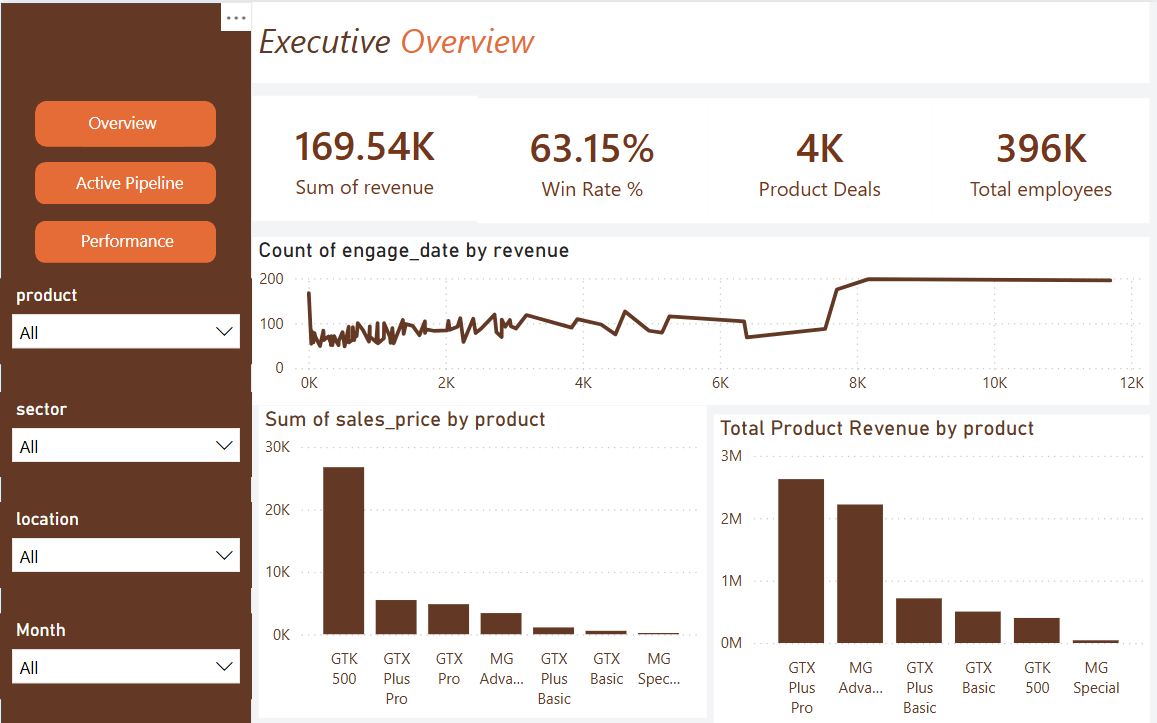

This screenshot's page, from the dashboard's own definition file:
{"tool":"powerbi","page":{"name":"Overview","canvas":[930,580],"ordinal":0},"visuals":[{"type":"shape","box":[0,0,202,580],"z":0},{"type":"slicer","fields":{"Values":["Product.product"]},"box":[0,221,202,69],"z":1000},{"type":"slicer","fields":{"Values":["account.sector"]},"box":[0,312,202,68],"z":2000},{"type":"slicer","fields":{"Values":["account.office_location"]},"box":[0,400,202,69],"z":3000},{"type":"slicer","fields":{"Values":["sales_pipeline.engage_date.Variation.Date Hierarchy.Month"]},"box":[0,489,202,69],"z":4000},{"type":"shape","box":[28,79,145,37],"z":5000},{"type":"textbox","box":[66,82,81,34],"z":6000},{"type":"shape","box":[28,128,145,34],"z":7000},{"type":"textbox","box":[56,130,100,29],"z":8000},{"type":"shape","box":[28,175,145,34],"z":9000},{"type":"textbox","box":[60,177,93,29],"z":10000},{"type":"actionButton","box":[53,83,100,29],"z":11000},{"type":"actionButton","box":[56,130,100,29],"z":12000},{"type":"actionButton","box":[57,180,100,29],"z":13000},{"type":"shape","box":[202,0,718,65],"z":14000},{"type":"textbox","box":[202,7,249,58],"z":15000},{"type":"cardVisual","fields":{"Data":["Product.Win Rate %"]},"box":[382,77,184,100],"z":16000},{"type":"cardVisual","fields":{"Data":["Sum(account.revenue)"]},"box":[202,75,180,100],"z":17000},{"type":"cardVisual","fields":{"Data":["Sum(account.employees)"]},"box":[746,77,174,100],"z":18000},{"type":"columnChart","fields":{"Category":["Product.product"],"Y":["Sum(Product.sales_price)"]},"box":[207,323,359,250],"z":19000},{"type":"columnChart","fields":{"Y":["Product.Total Product Revenue"],"Category":["Product.product"]},"box":[571,330,349,250],"z":20000},{"type":"cardVisual","fields":{"Data":["sales_pipeline.Product Deals Count"]},"box":[566,77,180,100],"z":21000},{"type":"lineChart","fields":{"Y":["CountNonNull(sales_pipeline.engage_date)"],"Category":["account.revenue"]},"box":[202,188,718,135],"z":22000}]}

Visuals, with their boxes on the page's 930x580 design canvas (x1, y1, x2, y2). These are canvas units, not pixel positions in the 1157x723 screenshot, which may show the page scaled, cropped or inside an application window:
shape: bbox=(0, 0, 202, 580)
slicer - Product.product: bbox=(0, 221, 202, 290)
slicer - account.sector: bbox=(0, 312, 202, 380)
slicer - account.office_location: bbox=(0, 400, 202, 469)
slicer - sales_pipeline.engage_date.Variation.Date Hierarchy.Month: bbox=(0, 489, 202, 558)
shape: bbox=(28, 79, 173, 116)
textbox: bbox=(66, 82, 147, 116)
shape: bbox=(28, 128, 173, 162)
textbox: bbox=(56, 130, 156, 159)
shape: bbox=(28, 175, 173, 209)
textbox: bbox=(60, 177, 153, 206)
actionButton: bbox=(53, 83, 153, 112)
actionButton: bbox=(56, 130, 156, 159)
actionButton: bbox=(57, 180, 157, 209)
shape: bbox=(202, 0, 920, 65)
textbox: bbox=(202, 7, 451, 65)
cardVisual - Product.Win Rate %: bbox=(382, 77, 566, 177)
cardVisual - Sum(account.revenue): bbox=(202, 75, 382, 175)
cardVisual - Sum(account.employees): bbox=(746, 77, 920, 177)
columnChart - Product.product x Sum(Product.sales_price): bbox=(207, 323, 566, 573)
columnChart - Product.Total Product Revenue x Product.product: bbox=(571, 330, 920, 580)
cardVisual - sales_pipeline.Product Deals Count: bbox=(566, 77, 746, 177)
lineChart - CountNonNull(sales_pipeline.engage_date) x account.revenue: bbox=(202, 188, 920, 323)
